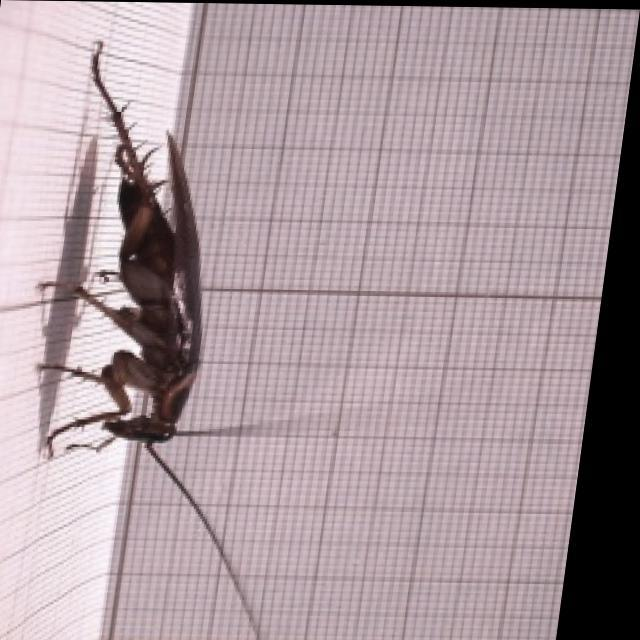cockroach: (17, 59, 231, 516)
